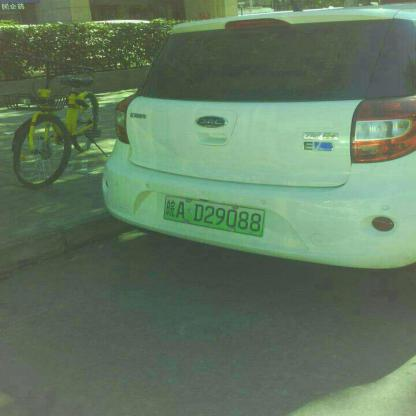lp: (160, 195, 264, 232)
